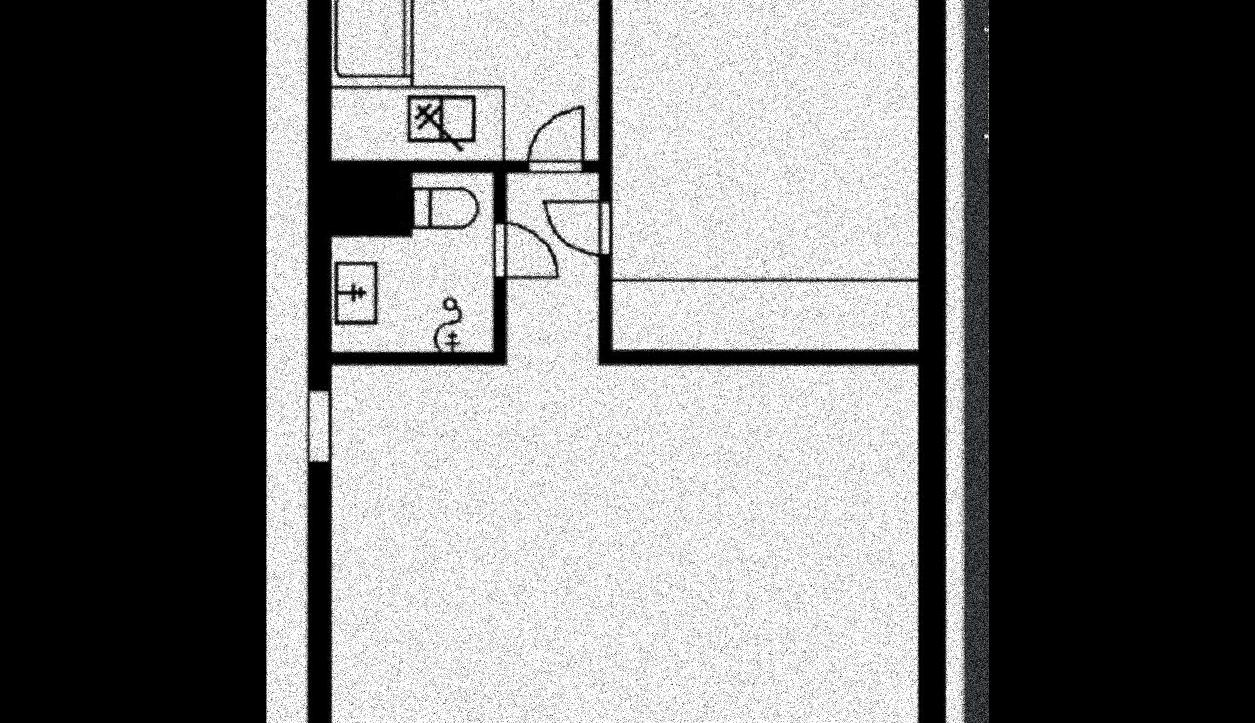door: (334, 173, 921, 723), (614, 0, 921, 344), (332, 0, 601, 159), (328, 173, 494, 352)
window: (525, 100, 587, 172), (495, 224, 560, 280), (540, 201, 612, 249)
